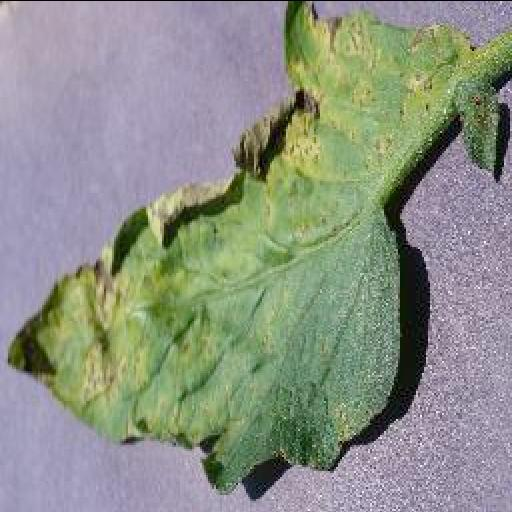disease_tomato: (6, 2, 512, 492)
